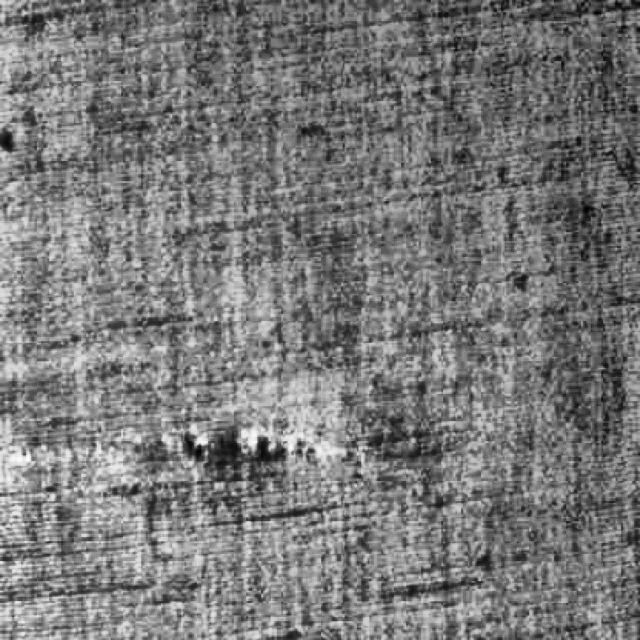thread_error: (0, 401, 392, 498)
